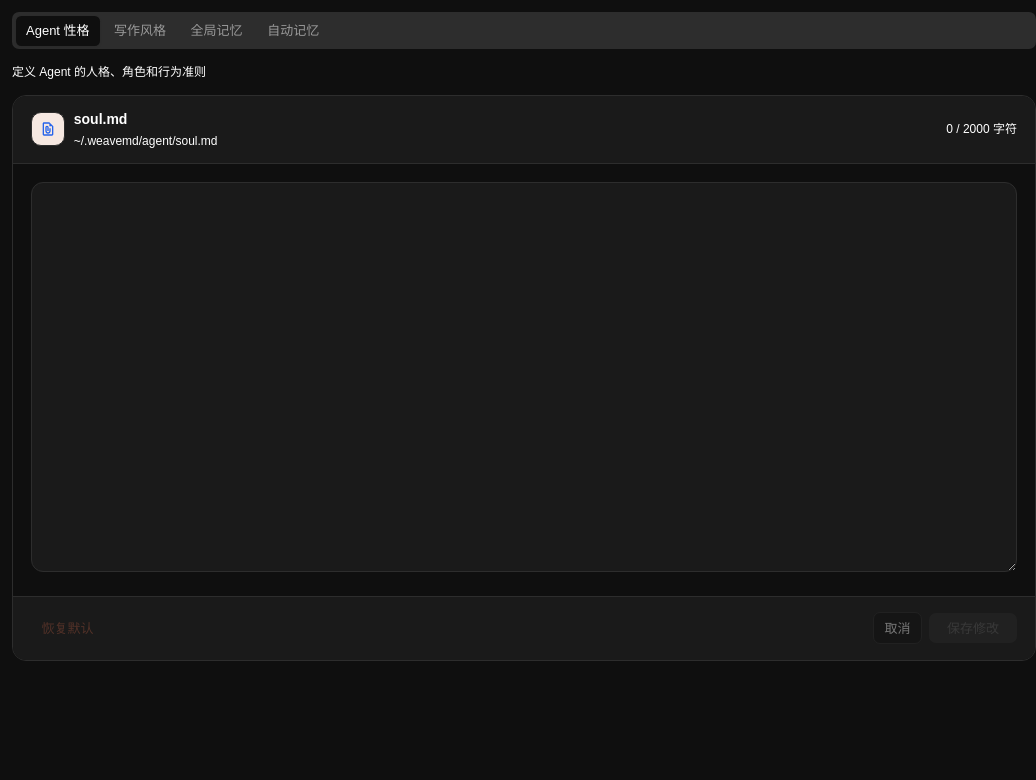
AgentPersonalityPanel — 自动记忆 tab › 切到「自动记忆」→ 拉取列表并只读渲染 kind 标签 / subject / content / 时间
Step 1. Click the button "自动记忆" → click(293, 30), box [257, 16, 330, 46]
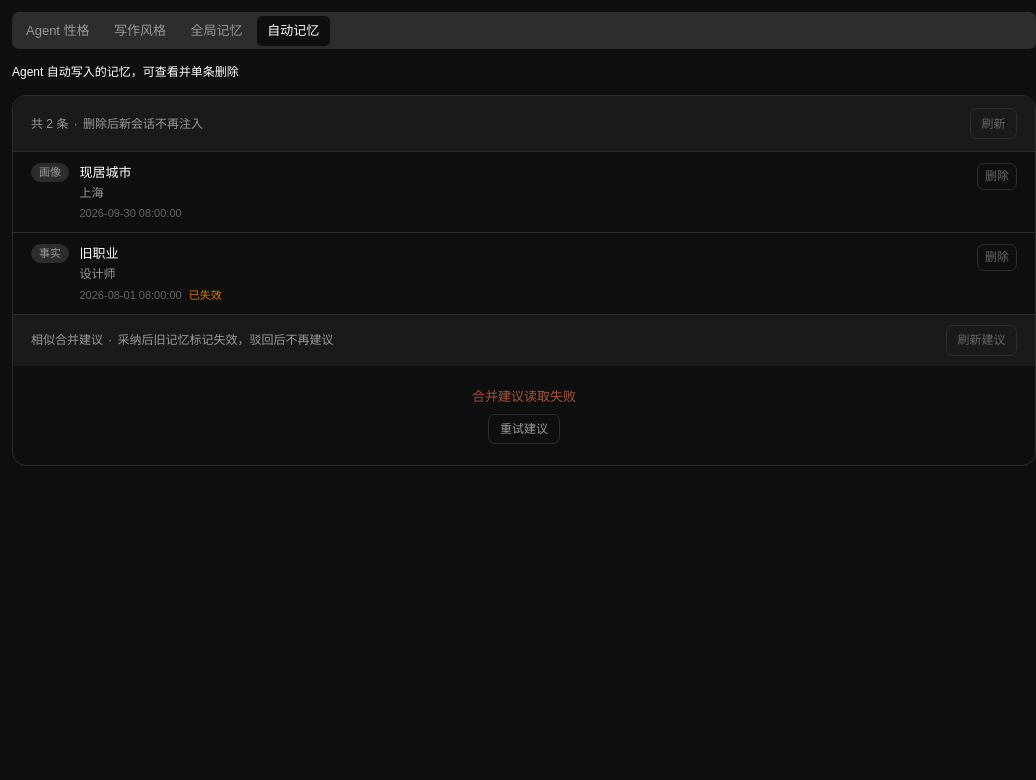
Check: the text "现居城市" is shown, box [80, 164, 132, 180]
Check: the text "上海" is shown, box [80, 186, 104, 200]
Check: the text "画像" is shown, box [31, 162, 69, 182]
